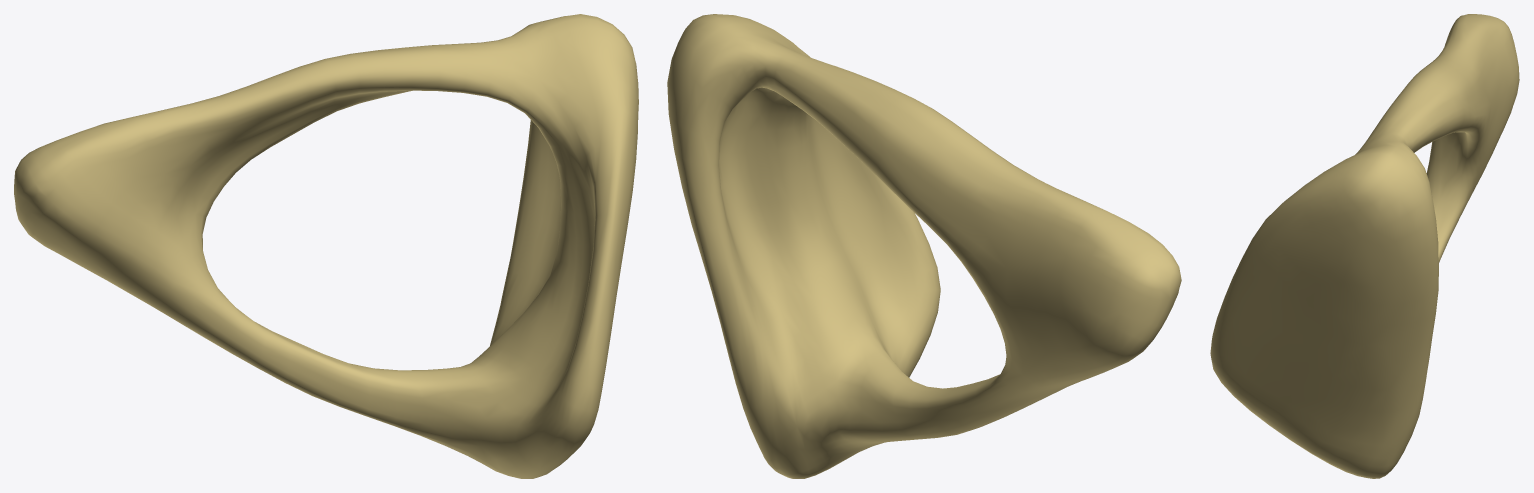
The picture shows the model from 3 angles, left to right: view 1: azimuth 30°, elevation 25°; view 2: azimuth 150°, elevation 25°; view 3: azimuth 270°, elevation 25°; orthographic projection. The views are drawn at different scales.
Visible parts, largest first — view 1: 右侧镫骨; view 2: 右侧镫骨; view 3: 右侧镫骨.
Boxes of the visible parts, x1=… form: 右侧镫骨: x1=14, y1=14, x2=638, y2=478; 右侧镫骨: x1=667, y1=14, x2=1181, y2=478; 右侧镫骨: x1=1210, y1=14, x2=1519, y2=478.
Size of the model in its own units: 0.00597 by 0.0045 by 0.00358.
